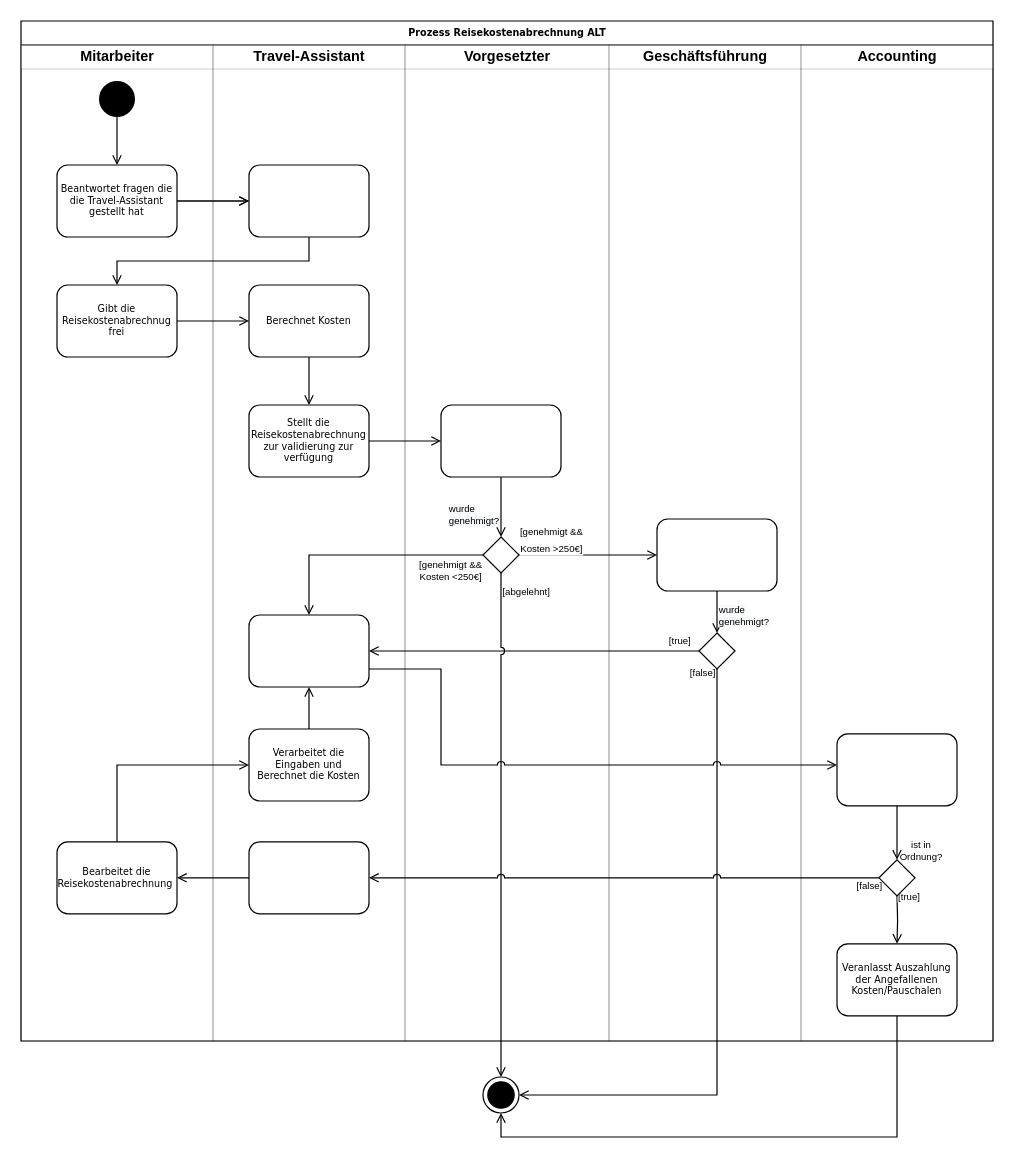
Image size: 1014x1168. Some labels were removed from this diagram. The centre of each missing label's shape, as x and y in pixels:
Geschäftsführung Prüft ob genehmigt wurde: (x=716, y=554)
Stellt die Reisekostenabrechnung zur bearbeitung zur verfügung: (x=308, y=877)
Stellt die Reisekostenabrechnung zur prüfung zur verfügung: (x=308, y=650)
Validiert die Berechnungen und die passenden belege: (x=896, y=769)
Verarbeitet die Eingaben: (x=308, y=200)
Vorgesetzter Prüft ob genehmigt wurde: (x=500, y=440)
